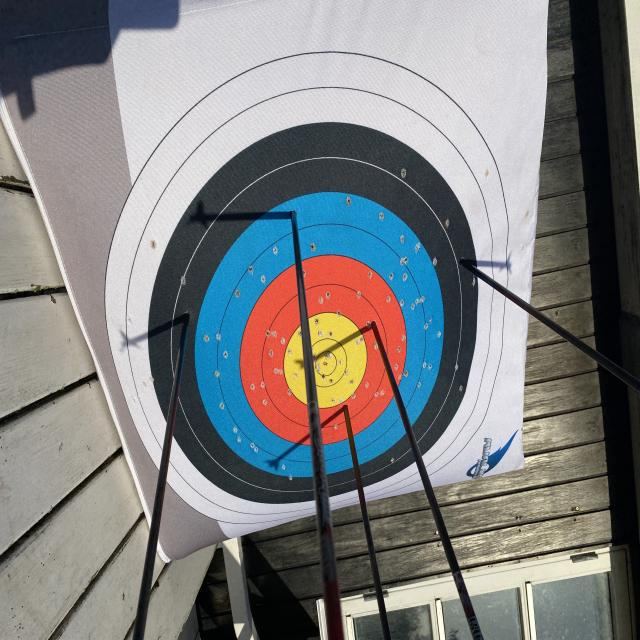Arrow_Black: (176, 291, 201, 348), (454, 245, 479, 287)
Arrow_Blue: (272, 192, 316, 246)
Arrow_Red: (354, 310, 394, 348), (332, 390, 358, 433)
